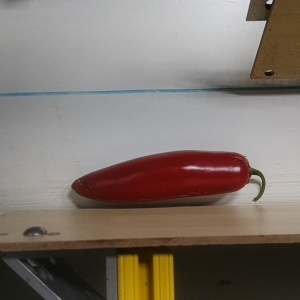Cut Point: (232, 151, 260, 192)
